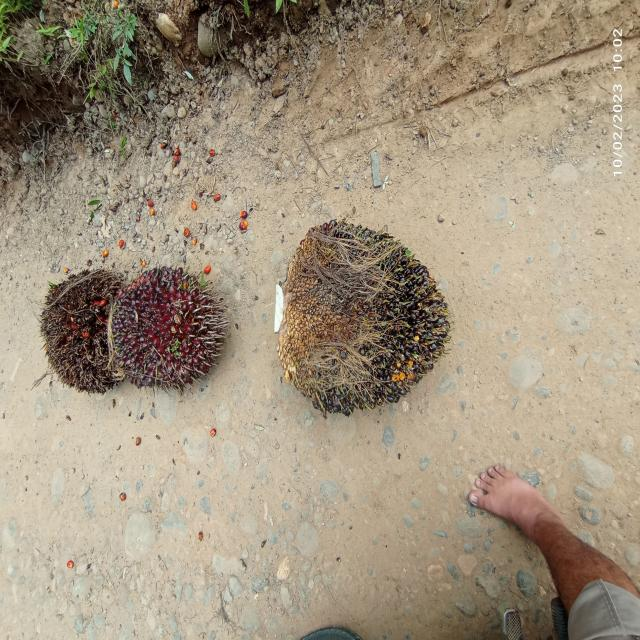fraksi 00: (238, 183, 471, 447)
fraksi 1: (106, 244, 237, 418)
fraksi 4: (22, 243, 122, 435)
